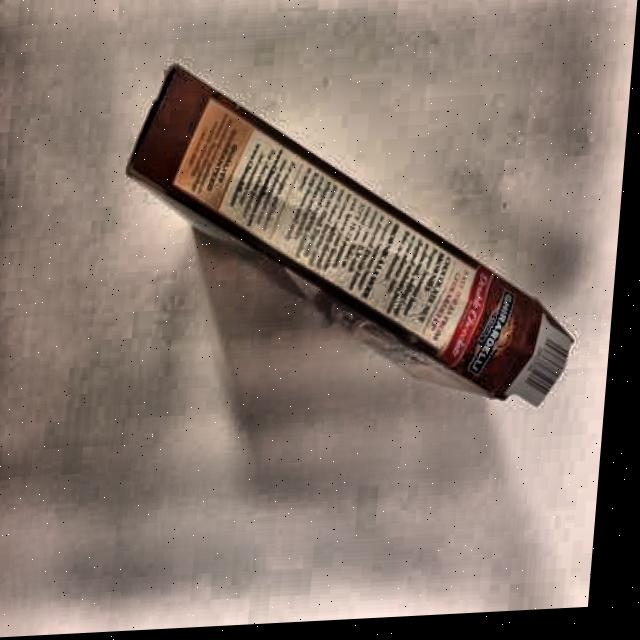paper: (105, 41, 599, 433)
